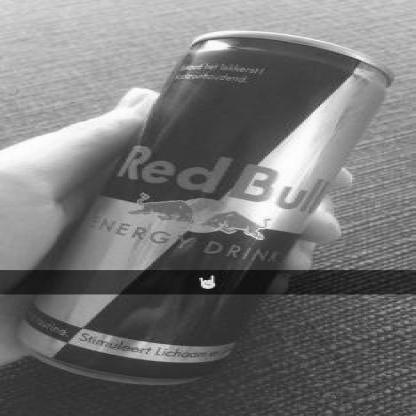alumunium_can: (16, 27, 396, 383)
